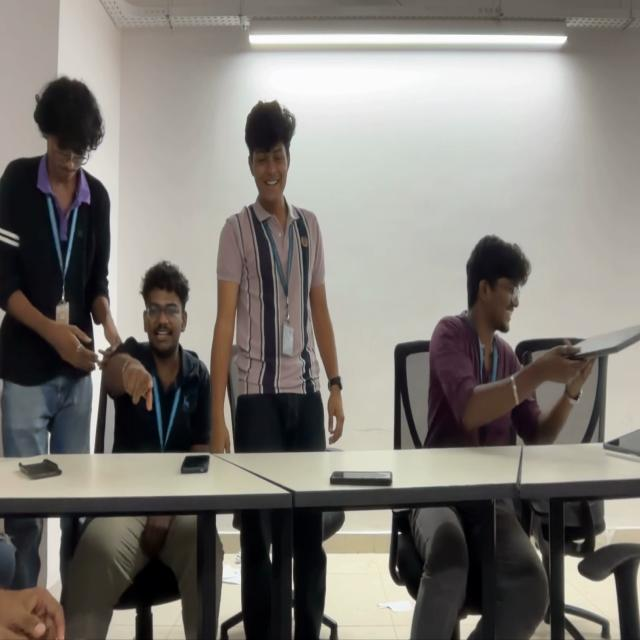Isolated: (427, 235, 572, 440)
socializing: (0, 71, 343, 449)
